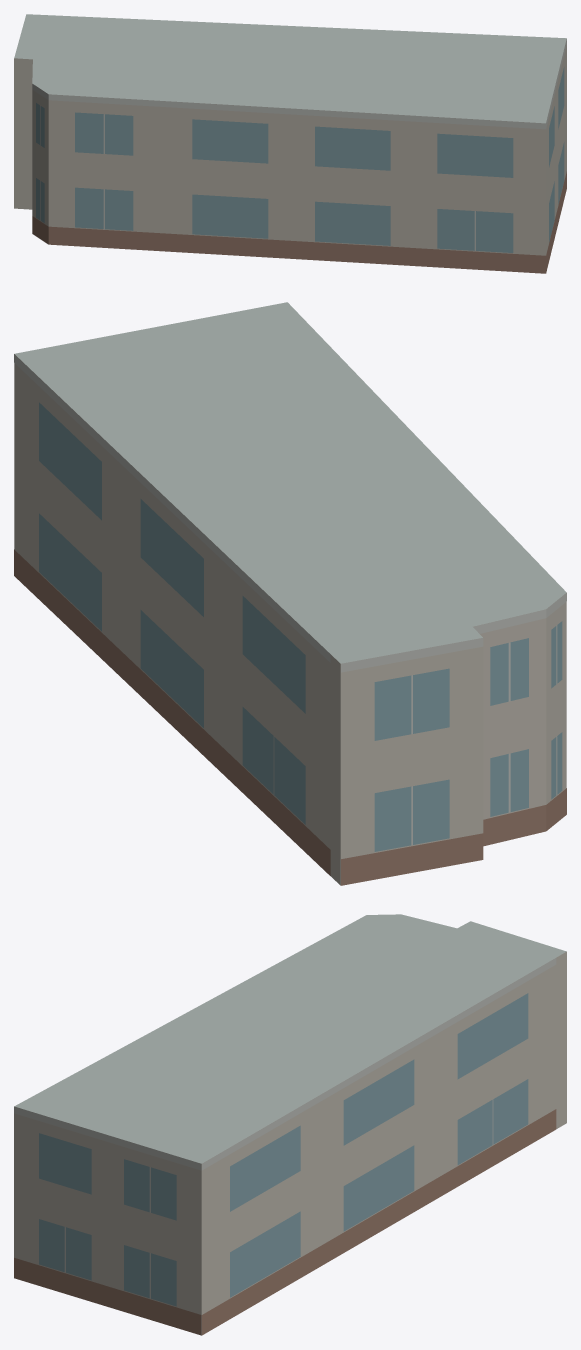
Rendered from survey-upis-32498162.glb.
3 views of the same model, one above another, from view 1: azimuth 30°, elevation 25°; view 2: azimuth 150°, elevation 25°; view 3: azimuth 270°, elevation 25° (orthographic). The views are drawn at different scales.
Visible parts, largest first — view 1: survey-upis-32498162.tmp; view 2: survey-upis-32498162.tmp; view 3: survey-upis-32498162.tmp.
Boxes of the visible parts, x1=… form: survey-upis-32498162.tmp: x1=14, y1=14, x2=566, y2=273; survey-upis-32498162.tmp: x1=14, y1=302, x2=566, y2=885; survey-upis-32498162.tmp: x1=14, y1=914, x2=566, y2=1335.
Bounding box in the file's own units: 19.01 × 6.1 × 17.8.
